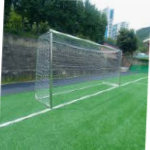goals: (33, 28, 125, 112)
